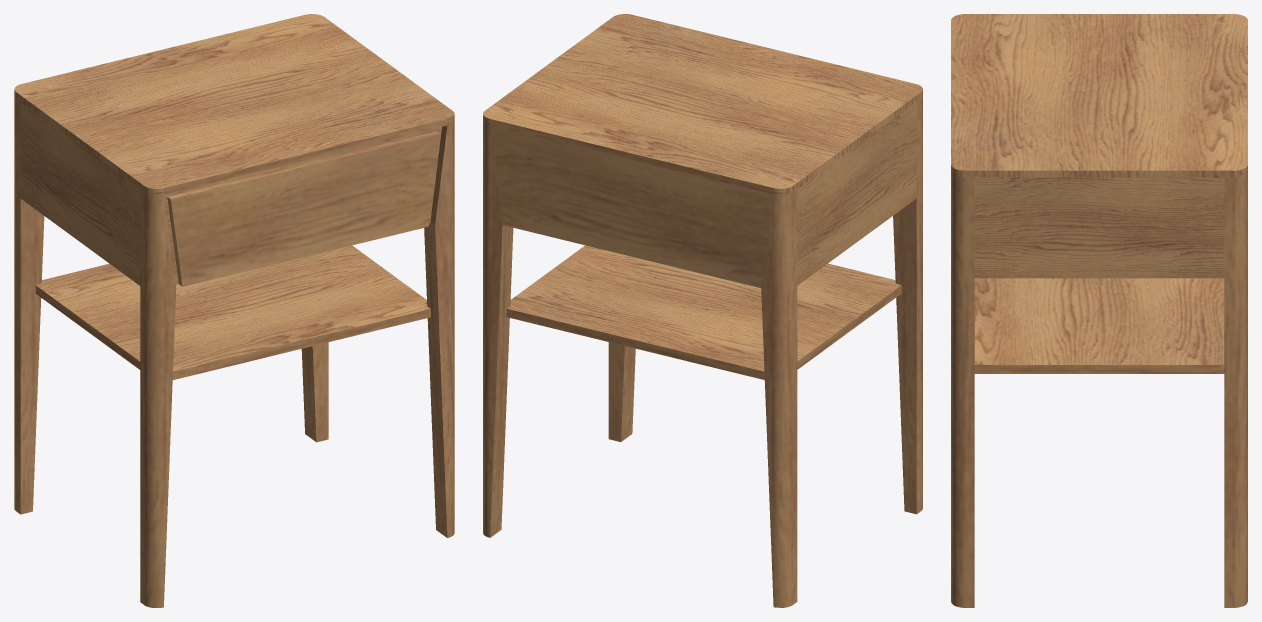
The model's file is bedside-v3.glb.
The picture shows the model from 3 angles, left to right: view 1: azimuth 30°, elevation 25°; view 2: azimuth 150°, elevation 25°; view 3: azimuth 270°, elevation 25°; orthographic projection. The views are drawn at different scales.
Bounding box in the file's own units: 0.5 × 0.65 × 0.4.
4 materials, 4 textured.
